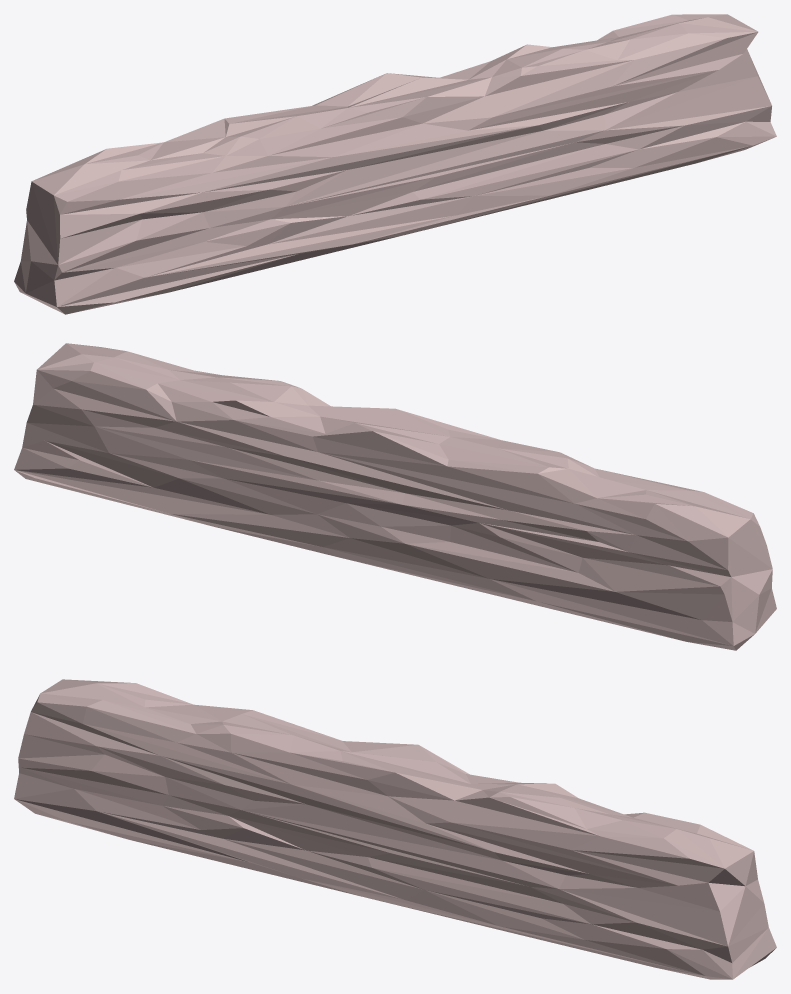
File: lowWall.fbx
3 renders of one model, top to bottom at view 1: azimuth 30°, elevation 25°; view 2: azimuth 150°, elevation 25°; view 3: azimuth 330°, elevation 25°, orthographic.
Parts seen in each view (by area): view 1: player1; view 2: player1; view 3: player1.
Part boxes in pixels (box(x1,y1,x2,y2)): player1: box(14, 14, 776, 314); player1: box(14, 343, 776, 650); player1: box(14, 679, 776, 979).
Size of the model in its own units: 3.12 by 0.5453 by 0.377.
